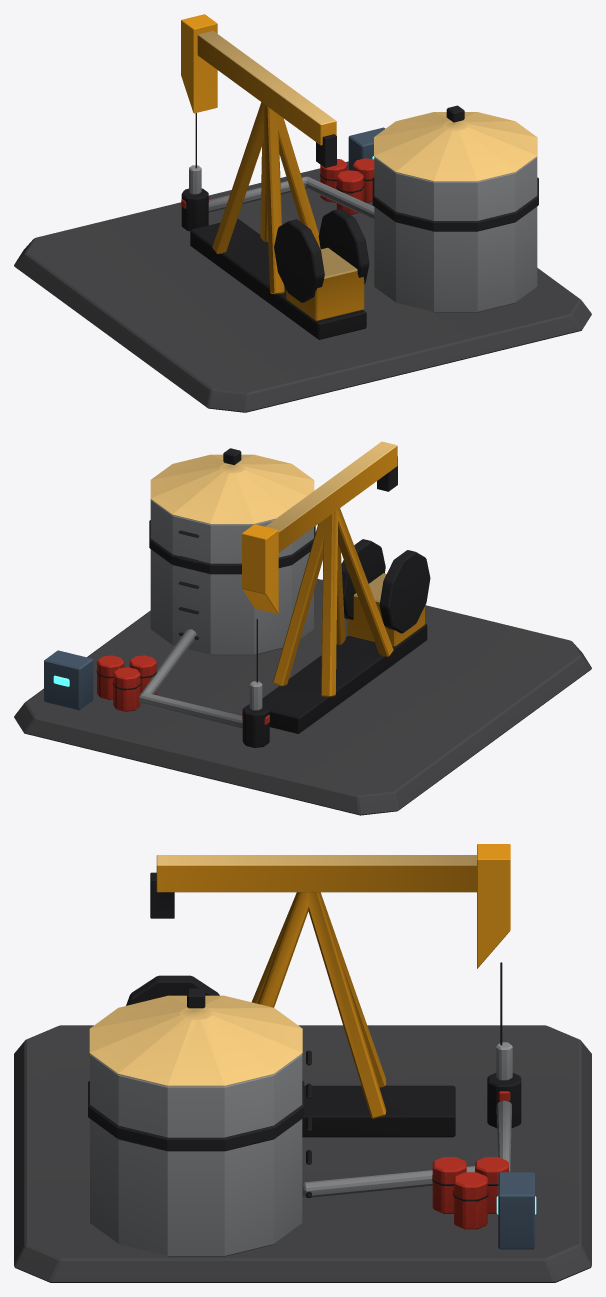
Rendered from oil_derrick.glb.
3 renders of one model, top to bottom at view 1: azimuth 30°, elevation 25°; view 2: azimuth 150°, elevation 25°; view 3: azimuth 270°, elevation 25°, orthographic. The views are drawn at different scales.
Visible parts, largest first — view 1: oil_derrick, Beam; view 2: oil_derrick, Beam; view 3: oil_derrick, Beam.
Part boxes in pixels (x1=…): oil_derrick: x1=14, y1=102, x2=591, y2=412; Beam: x1=181, y1=14, x2=336, y2=168; oil_derrick: x1=14, y1=448, x2=591, y2=815; Beam: x1=242, y1=441, x2=397, y2=682; oil_derrick: x1=14, y1=892, x2=591, y2=1282; Beam: x1=150, y1=844, x2=510, y2=1045.
Bounding box in the file's own units: 1.89 × 1.05 × 1.89.
